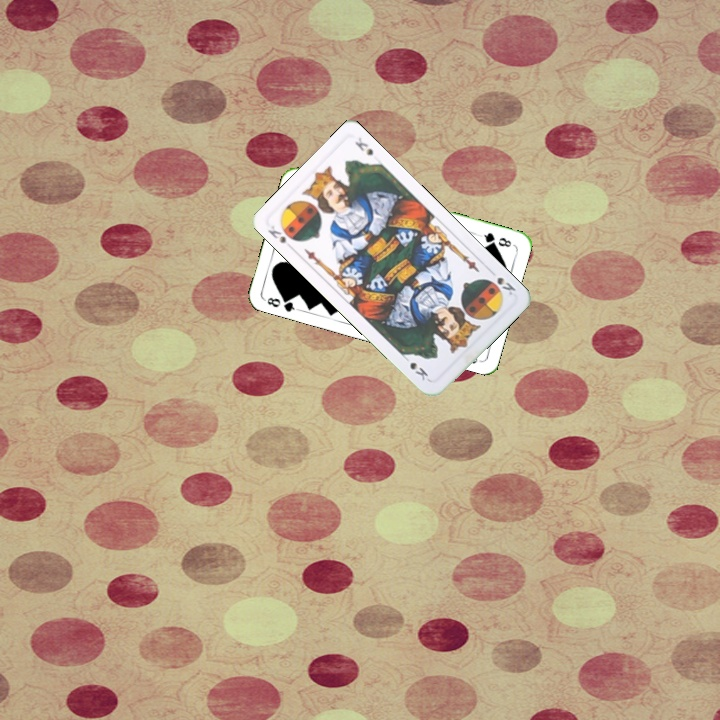G8: (261, 291, 301, 314), (476, 229, 514, 250)
SK: (264, 221, 290, 246), (493, 273, 518, 298)
